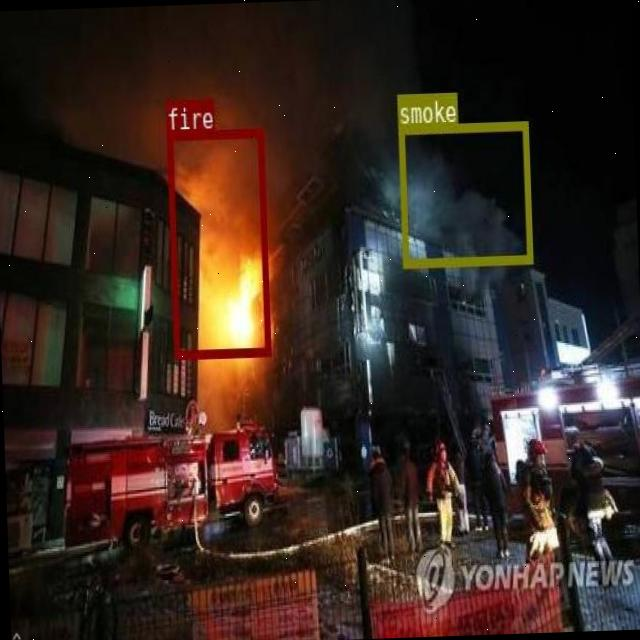fire: (165, 128, 269, 357)
smoke: (397, 121, 531, 266)
